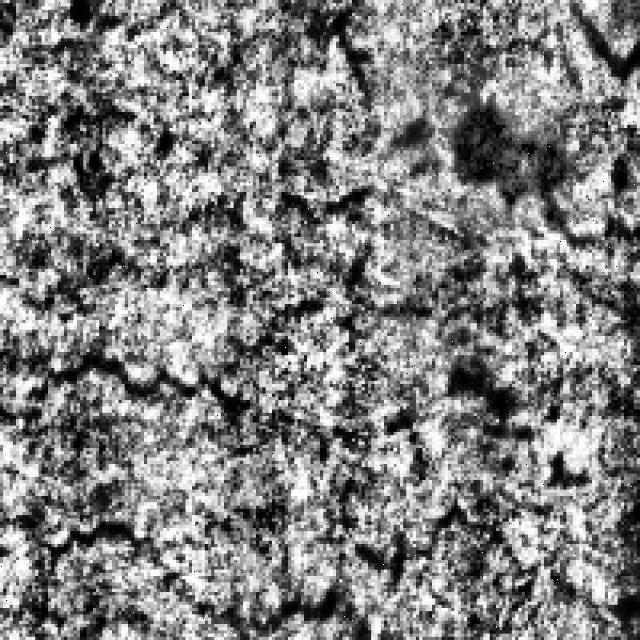Pitted_Surface: (0, 346, 416, 614), (272, 189, 451, 317)
Scratches: (444, 90, 566, 204)
